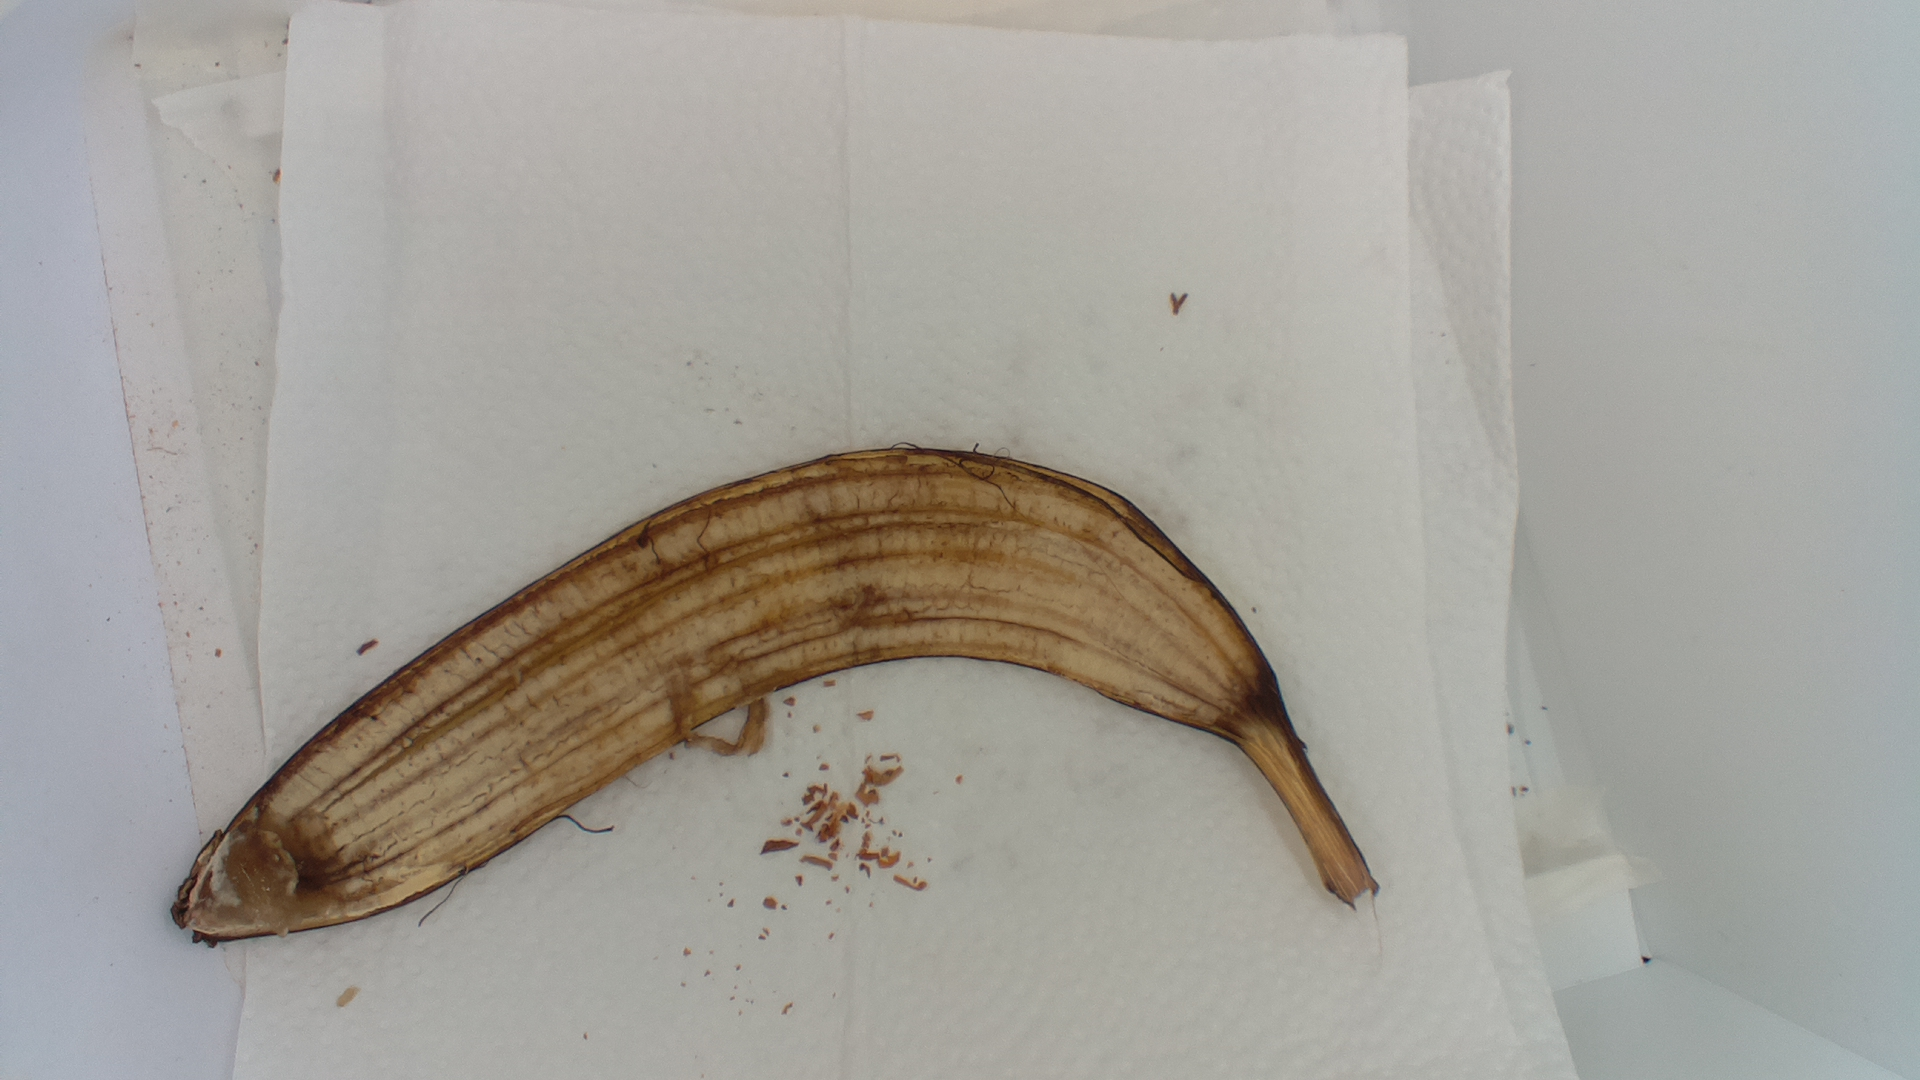fruit: (170, 444, 1389, 949)
